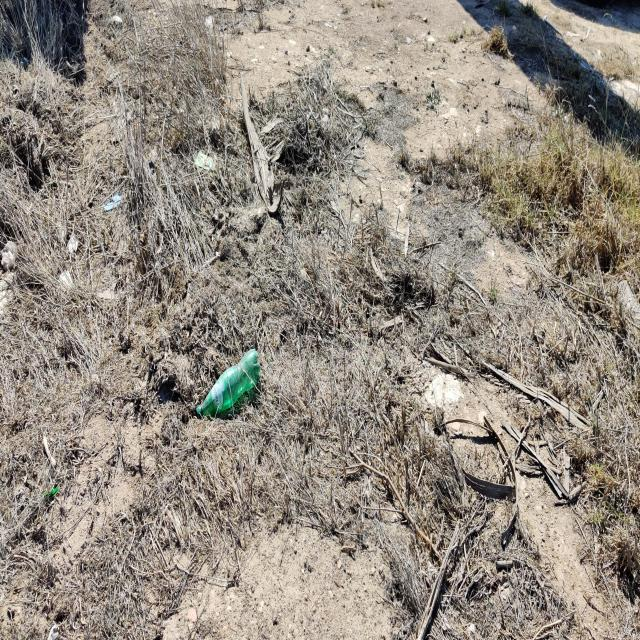Clear plastic bottle: (196, 349, 261, 419)
Other plastic bottle: (41, 486, 60, 496)
Plastic bottle cap: (196, 407, 201, 420)
Plastic film: (1, 242, 17, 271)
Unlabeled litter: (195, 151, 217, 171), (103, 193, 121, 211)
